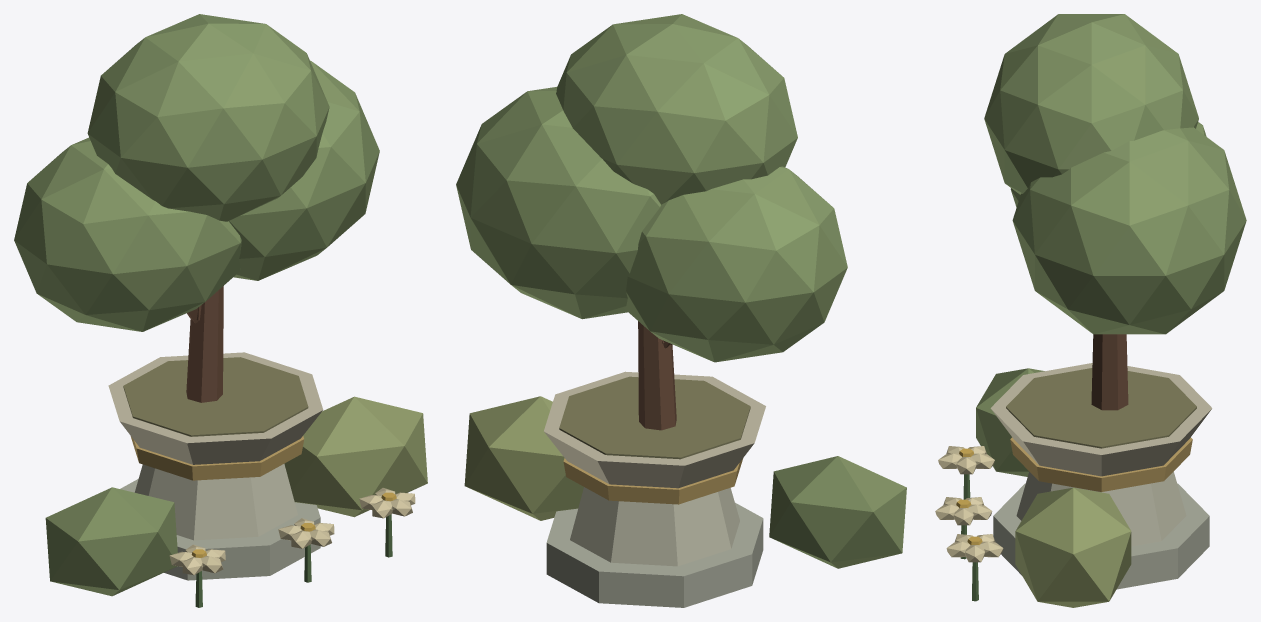
File: xingyin-environment-v2__champion_laurel_garden.glb
The picture shows the model from 3 angles, left to right: view 1: azimuth 30°, elevation 25°; view 2: azimuth 150°, elevation 25°; view 3: azimuth 270°, elevation 25°; orthographic projection. The views are drawn at different scales.
Visible parts, largest first — view 1: champion_laurel_garden; view 2: champion_laurel_garden; view 3: champion_laurel_garden.
Part boxes in pixels (<box>): champion_laurel_garden: <box>14,14,427,607</box>; champion_laurel_garden: <box>456,14,906,607</box>; champion_laurel_garden: <box>935,14,1246,607</box>.
Size of the model in its own units: 3.24 by 4.08 by 2.22.
